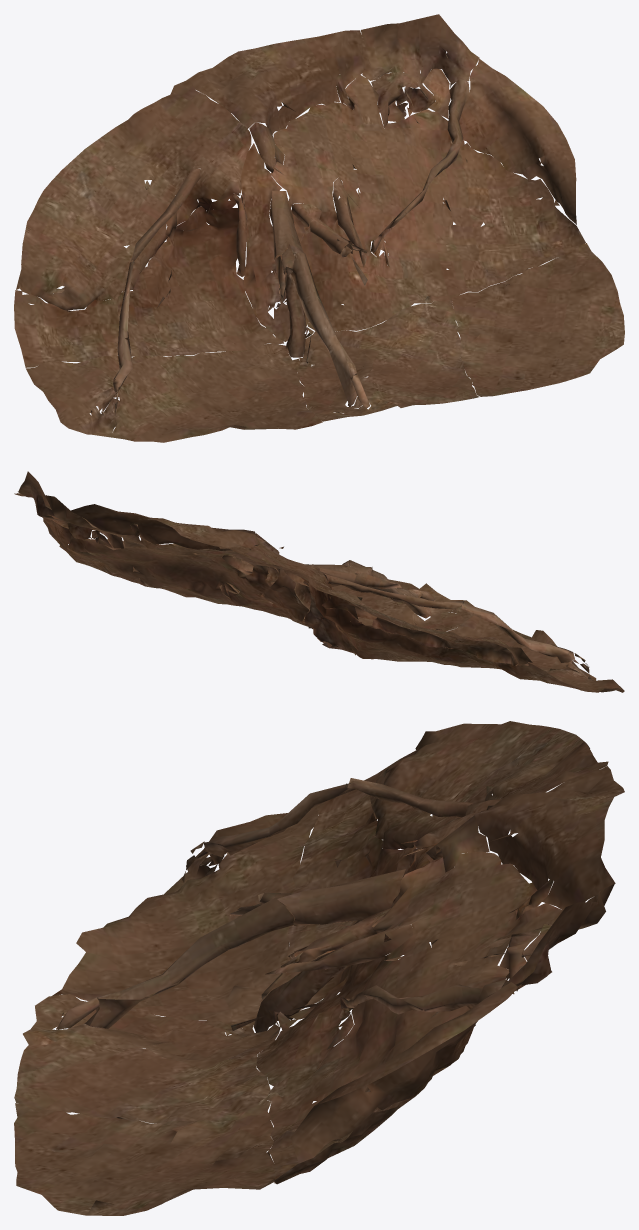
File: roots_large.glb
The picture shows the model from 3 angles, top to bottom: view 1: azimuth 30°, elevation 25°; view 2: azimuth 150°, elevation 25°; view 3: azimuth 270°, elevation 25°; orthographic projection. The views are drawn at different scales.
Parts seen in each view (by area): view 1: root_cluster_01; view 2: root_cluster_01; view 3: root_cluster_01.
Part boxes in pixels (x1,y1,x2,y2): root_cluster_01: (14,14,624,442); root_cluster_01: (14,471,624,692); root_cluster_01: (14,721,624,1215).
Bounding box in the file's own units: 4.12 × 1.5 × 2.68.
Materials: 1 (1 with a texture image).
